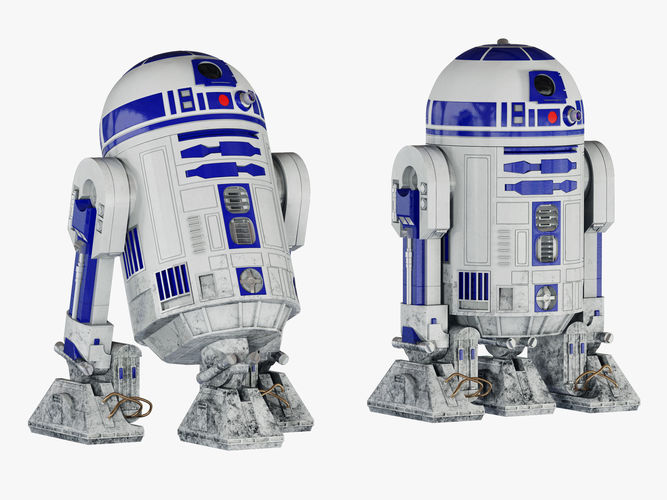r2d2: (29, 51, 315, 449), (367, 38, 640, 423)
